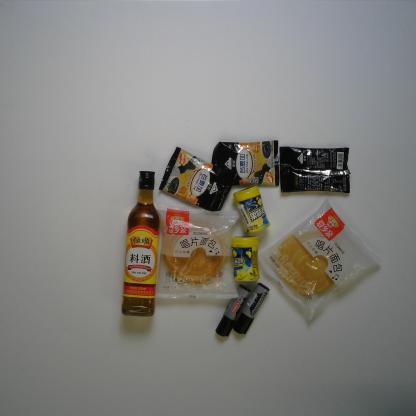Dessert: (257, 196, 386, 326), (156, 201, 241, 300)
Gum: (232, 184, 272, 234), (230, 234, 260, 283)
Instant Drink: (158, 146, 238, 211), (278, 146, 351, 194), (211, 140, 280, 187)
Seasoner: (120, 169, 161, 319)
Stationery: (214, 283, 252, 339), (232, 282, 271, 336)
